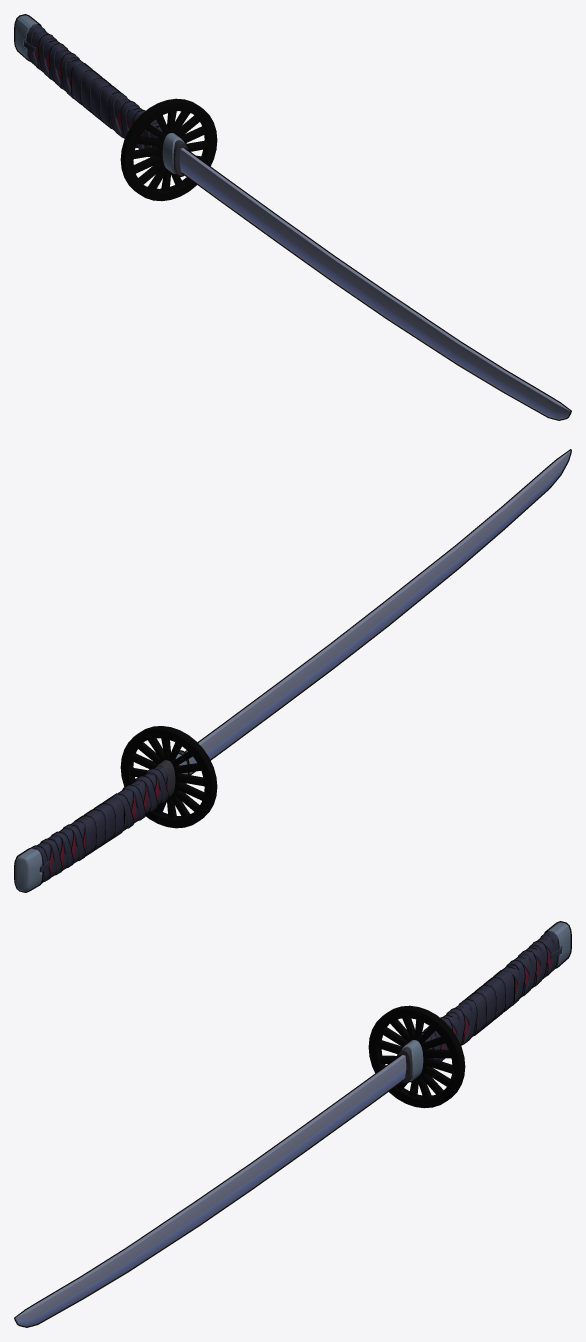
The model's file is katane_txt.fbx.
3 renders of one model, top to bottom at view 1: azimuth 30°, elevation 25°; view 2: azimuth 150°, elevation 25°; view 3: azimuth 330°, elevation 25°, orthographic.
Visible parts, largest first — view 1: Cube.111; view 2: Cube.111; view 3: Cube.111.
Part boxes in pixels (left/top/right/bottom): Cube.111: left=14, top=14, right=571, bottom=420; Cube.111: left=14, top=449, right=571, bottom=892; Cube.111: left=14, top=921, right=571, bottom=1327.
Bounding box in the file's own units: 45.03 × 45.03 × 463.
